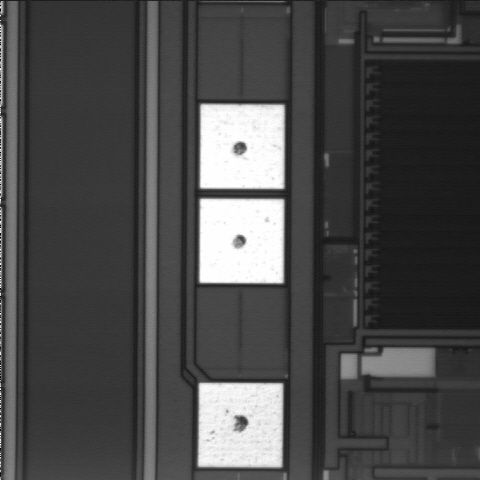pad: (200, 104, 284, 189), (199, 199, 284, 283), (198, 383, 283, 467)
